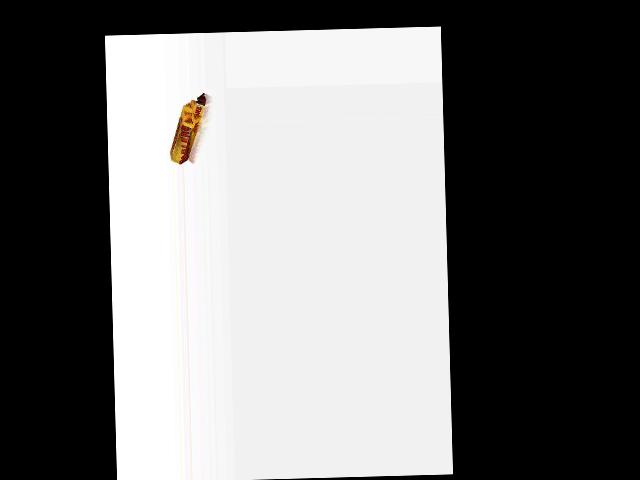chocolate: (167, 92, 211, 164)
